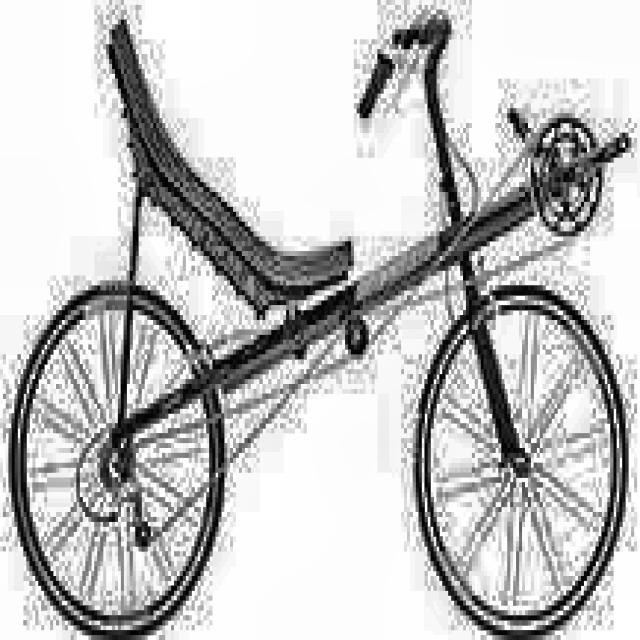bicycle: (1, 0, 629, 637)
